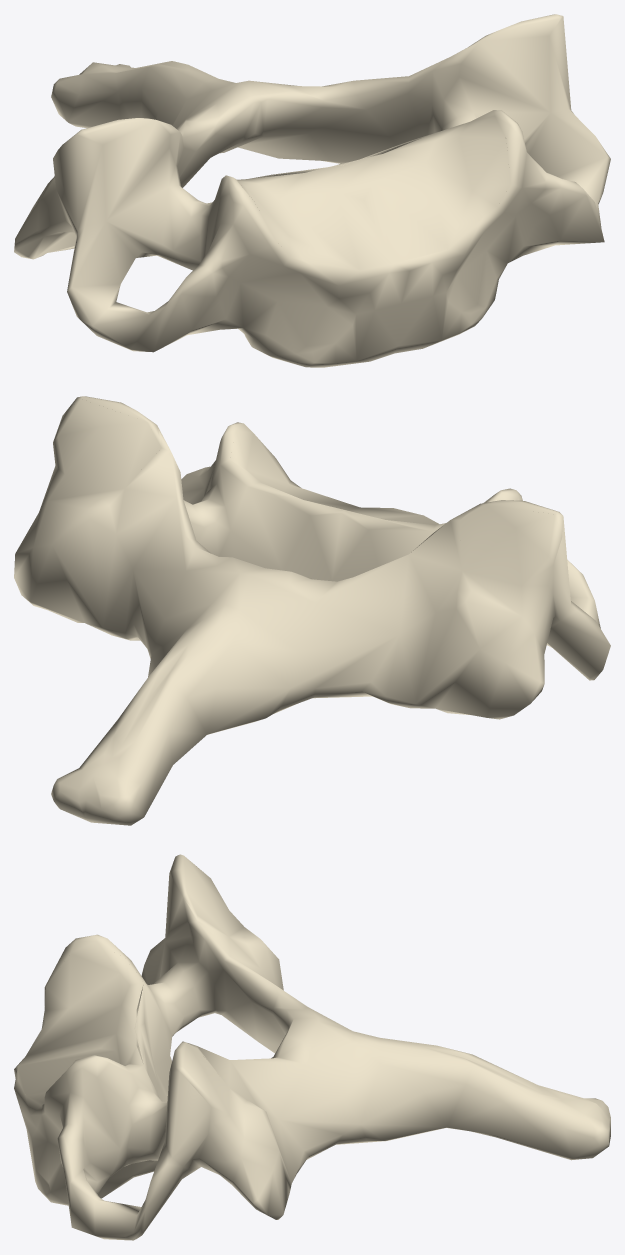
The model's file is esqueleto-vertebra-c6.glb.
The picture shows the model from 3 angles, top to bottom: view 1: azimuth 30°, elevation 25°; view 2: azimuth 150°, elevation 25°; view 3: azimuth 270°, elevation 25°; orthographic projection. The views are drawn at different scales.
Parts seen in each view (by area): view 1: Vertebra C6; view 2: Vertebra C6; view 3: Vertebra C6.
Part boxes in pixels (<box>): Vertebra C6: <box>14,14,610,367</box>; Vertebra C6: <box>14,396,610,825</box>; Vertebra C6: <box>14,854,610,1240</box>.
Bounding box in the file's own units: 0.0613 × 0.0246 × 0.0635.
